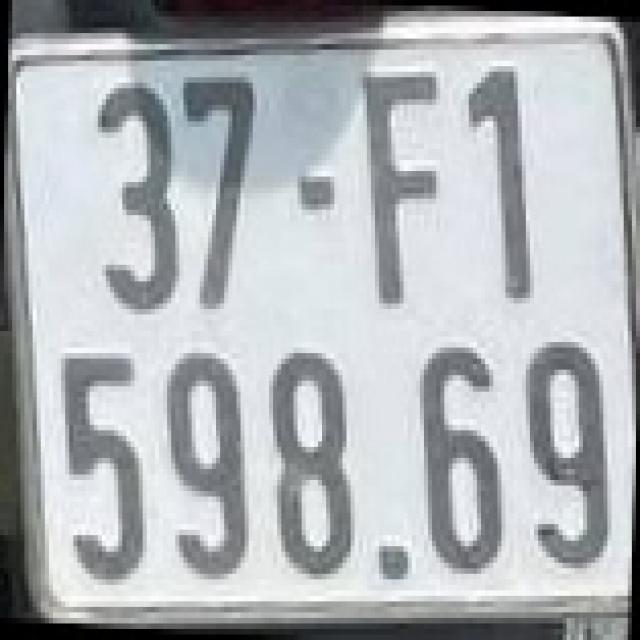1: (464, 55, 546, 304)
3: (94, 78, 184, 314)
5: (57, 342, 151, 585)
6: (412, 336, 506, 574)
7: (179, 72, 261, 309)
8: (265, 336, 359, 580)
9: (522, 331, 616, 568), (164, 342, 252, 579)
F: (351, 55, 448, 309)
